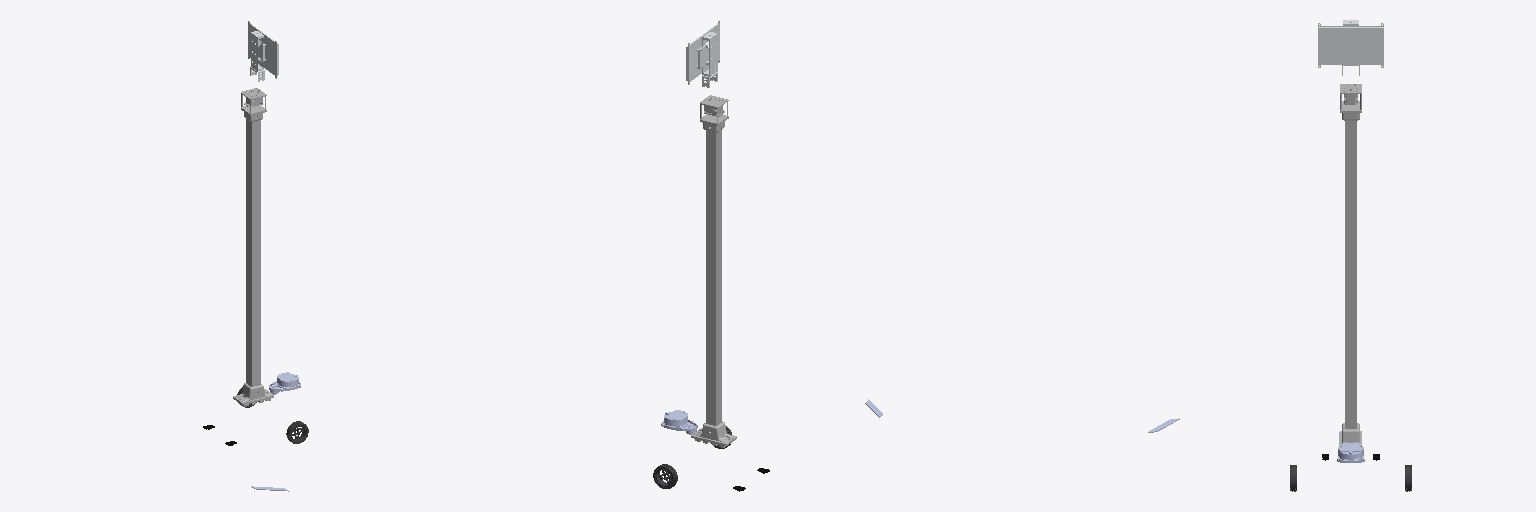
The robot description file, URDF, robot "oro_v5":
<?xml version="1.0" encoding="utf-8"?>
<!-- This URDF was automatically created by SolidWorks to URDF Exporter! Originally created by Stephen Brawner ([email redacted]) 
     Commit Version: 1.5.1-0-g916b5db  Build Version: 1.5.7152.31018
     For more information, please see http://wiki.ros.org/sw_urdf_exporter -->
<robot
  name="oro_v5">
  <link
    name="base_footprint">
    <inertial>
      <origin
        xyz="-0.278585691762885 -0.466679102042072 0.0480195977007997"
        rpy="0 0 0" />
      <mass
        value="0.00396620122104983" />
      <inertia
        ixx="1.28199259086794E-06"
        ixy="1.48868654597721E-06"
        ixz="-8.95371630187866E-23"
        iyy="1.94183452880131E-06"
        iyz="8.00302803774393E-23"
        izz="3.21956239570296E-06" />
    </inertial>
    <visual>
      <origin
        xyz="0 0 0"
        rpy="0 0 0" />
      <geometry>
        <mesh
          filename="package://oro_v5/meshes/base_footprint.STL" />
      </geometry>
      <material
        name="">
        <color
          rgba="0.792156862745098 0.819607843137255 0.933333333333333 1" />
      </material>
    </visual>
    <collision>
      <origin
        xyz="0 0 0"
        rpy="0 0 0" />
      <geometry>
        <mesh
          filename="package://oro_v5/meshes/base_footprint.STL" />
      </geometry>
    </collision>
  </link>
  <link
    name="base_link">
    <inertial>
      <origin
        xyz="-0.0592357018397242 -0.000351282404628678 0.0201575907136557"
        rpy="0 0 0" />
      <mass
        value="1.32144840386241" />
      <inertia
        ixx="0.00135545914237128"
        ixy="-1.92792410405448E-07"
        ixz="5.02237151445155E-08"
        iyy="0.000617406302650874"
        iyz="1.28465629217555E-06"
        izz="0.00194060505203685" />
    </inertial>
    <visual>
      <origin
        xyz="0 0 0"
        rpy="0 0 0" />
      <geometry>
        <mesh
          filename="package://oro_v5/meshes/base_link.STL" />
      </geometry>
      <material
        name="">
        <color
          rgba="0.752941176470588 0.752941176470588 0.752941176470588 1" />
      </material>
    </visual>
    <collision>
      <origin
        xyz="0 0 0"
        rpy="0 0 0" />
      <geometry>
        <mesh
          filename="package://oro_v5/meshes/base_link.STL" />
      </geometry>
    </collision>
  </link>
  <joint
    name="base_link_joint"
    type="fixed">
    <origin
      xyz="0 0 0.033"
      rpy="0 0 0" />
    <parent
      link="base_footprint" />
    <child
      link="base_link" />
    <axis
      xyz="0 0 0" />
  </joint>
  <link
    name="neck">
    <inertial>
      <origin
        xyz="5.1035235981059E-05 3.02250471614801E-06 0.451367324075199"
        rpy="0 0 0" />
      <mass
        value="1.10926754952808" />
      <inertia
        ixx="0.0564255773084723"
        ixy="-9.03977213539907E-10"
        ixz="-1.8295188859103E-07"
        iyy="0.0564818854150741"
        iyz="-4.18069407431348E-11"
        izz="0.000391068830002546" />
    </inertial>
    <visual>
      <origin
        xyz="0 0 0"
        rpy="0 0 0" />
      <geometry>
        <mesh
          filename="package://oro_v5/meshes/neck.STL" />
      </geometry>
      <material
        name="">
        <color
          rgba="0.752941176470588 0.752941176470588 0.752941176470588 1" />
      </material>
    </visual>
    <collision>
      <origin
        xyz="0 0 0"
        rpy="0 0 0" />
      <geometry>
        <mesh
          filename="package://oro_v5/meshes/neck.STL" />
      </geometry>
    </collision>
  </link>
  <joint
    name="neck_joint"
    type="fixed">
    <origin
      xyz="-0.064 0 0.06825"
      rpy="0 0 0" />
    <parent
      link="base_link" />
    <child
      link="neck" />
    <axis
      xyz="0 0 0" />
  </joint>
  <link
    name="pan">
    <inertial>
      <origin
        xyz="-2.50155840103294E-05 -3.07858331118482E-05 0.0205898386906647"
        rpy="0 0 0" />
      <mass
        value="0.0446711229185335" />
      <inertia
        ixx="1.24180241554179E-05"
        ixy="-4.29119054433953E-13"
        ixz="2.44763767130907E-09"
        iyy="1.04151202907413E-05"
        iyz="-1.82749851584174E-07"
        izz="7.78082243124466E-06" />
    </inertial>
    <visual>
      <origin
        xyz="0 0 0"
        rpy="0 0 0" />
      <geometry>
        <mesh
          filename="package://oro_v5/meshes/pan.STL" />
      </geometry>
      <material
        name="">
        <color
          rgba="0.752941176470588 0.752941176470588 0.752941176470588 1" />
      </material>
    </visual>
    <collision>
      <origin
        xyz="0 0 0"
        rpy="0 0 0" />
      <geometry>
        <mesh
          filename="package://oro_v5/meshes/pan.STL" />
      </geometry>
    </collision>
  </link>
  <joint
    name="pan_joint"
    type="continuous">
    <origin
      xyz="0.01275 2.54E-05 0.98748"
      rpy="0 0 3.1416" />
    <parent
      link="neck" />
    <child
      link="pan" />
    <axis
      xyz="0 0 1" />
  </joint>
  <link
    name="tilt">
    <inertial>
      <origin
        xyz="0.00118385527699938 0.0139616359862273 -0.0783421837132383"
        rpy="0 0 0" />
      <mass
        value="0.190333592129278" />
      <inertia
        ixx="0.000184137194903989"
        ixy="-1.52842480239196E-06"
        ixz="6.62804385986329E-08"
        iyy="0.000483856390372872"
        iyz="5.06450642269186E-08"
        izz="0.000309913696954649" />
    </inertial>
    <visual>
      <origin
        xyz="0 0 0"
        rpy="0 0 0" />
      <geometry>
        <mesh
          filename="package://oro_v5/meshes/tilt.STL" />
      </geometry>
      <material
        name="">
        <color
          rgba="0.894117647058823 0.913725490196078 0.929411764705882 1" />
      </material>
    </visual>
    <collision>
      <origin
        xyz="0 0 0"
        rpy="0 0 0" />
      <geometry>
        <mesh
          filename="package://oro_v5/meshes/tilt.STL" />
      </geometry>
    </collision>
  </link>
  <joint
    name="tilt_joint"
    type="continuous">
    <origin
      xyz="-0.00025 0 0.04092"
      rpy="3.1416 0 -1.5708" />
    <parent
      link="pan" />
    <child
      link="tilt" />
    <axis
      xyz="1 0 0" />
  </joint>
  <link
    name="depth_cam">
    <inertial>
      <origin
        xyz="1.57606088716095E-05 4.46446457066766E-10 4.41076423629561E-06"
        rpy="0 0 0" />
      <mass
        value="0.153126621719673" />
      <inertia
        ixx="0.000375847392851875"
        ixy="1.29137498305324E-13"
        ixz="-2.26757644251101E-09"
        iyy="2.29360924151489E-05"
        iyz="1.98626115149137E-12"
        izz="0.000377927282615239" />
    </inertial>
    <visual>
      <origin
        xyz="0 0 0"
        rpy="0 0 0" />
      <geometry>
        <mesh
          filename="package://oro_v5/meshes/depth_cam.STL" />
      </geometry>
      <material
        name="">
        <color
          rgba="0.792156862745098 0.819607843137255 0.933333333333333 1" />
      </material>
    </visual>
    <collision>
      <origin
        xyz="0 0 0"
        rpy="0 0 0" />
      <geometry>
        <mesh
          filename="package://oro_v5/meshes/depth_cam.STL" />
      </geometry>
    </collision>
  </link>
  <joint
    name="depth_cam_joint"
    type="continuous">
    <origin
      xyz="0 -0.0014699 -0.14958"
      rpy="3.1416 0 1.5708" />
    <parent
      link="tilt" />
    <child
      link="depth_cam" />
    <axis
      xyz="0 1 0" />
  </joint>
  <link
    name="base_scan">
    <inertial>
      <origin
        xyz="0.00862865863959544 0.000140843030897758 -1.73967868891121E-05"
        rpy="0 0 0" />
      <mass
        value="0.0530538694104072" />
      <inertia
        ixx="1.81416003681575E-05"
        ixy="4.99055692614564E-06"
        ixz="-2.62458054720209E-08"
        iyy="4.46011025061381E-05"
        iyz="1.92490809961404E-08"
        izz="3.57220957812171E-05" />
    </inertial>
    <visual>
      <origin
        xyz="0 0 0"
        rpy="0 0 0" />
      <geometry>
        <mesh
          filename="package://oro_v5/meshes/base_scan.STL" />
      </geometry>
      <material
        name="">
        <color
          rgba="0.792156862745098 0.819607843137255 0.933333333333333 1" />
      </material>
    </visual>
    <collision>
      <origin
        xyz="0 0 0"
        rpy="0 0 0" />
      <geometry>
        <mesh
          filename="package://oro_v5/meshes/base_scan.STL" />
      </geometry>
    </collision>
  </link>
  <joint
    name="scan_joint"
    type="fixed">
    <origin
      xyz="0.051435 0 0.08795"
      rpy="1.5708 0 3.1416" />
    <parent
      link="base_link" />
    <child
      link="base_scan" />
    <axis
      xyz="0 0 0" />
  </joint>
  <link
    name="wheel_right_link">
    <inertial>
      <origin
        xyz="-0.0577959024723893 -0.164720891612344 -0.201308502278482"
        rpy="0 0 0" />
      <mass
        value="5.58292770809024" />
      <inertia
        ixx="0.792771487456648"
        ixy="0.000179059503237664"
        ixz="0.00254861613372677"
        iyy="0.772803280888675"
        iyz="0.0299232164799445"
        izz="0.0643045890784704" />
    </inertial>
    <visual>
      <origin
        xyz="0 0 0"
        rpy="0 0 0" />
      <geometry>
        <mesh
          filename="package://oro_v5/meshes/wheel_right_link.STL" />
      </geometry>
      <material
        name="">
        <color
          rgba="0.298039215686275 0.298039215686275 0.298039215686275 1" />
      </material>
    </visual>
    <collision>
      <origin
        xyz="0 0 0"
        rpy="0 0 0" />
      <geometry>
        <mesh
          filename="package://oro_v5/meshes/wheel_right_link.STL" />
      </geometry>
    </collision>
  </link>
  <joint
    name="wheel_right_joint"
    type="continuous">
    <origin
      xyz="0 -0.1349 0"
      rpy="3.1416 0 0" />
    <parent
      link="base_link" />
    <child
      link="wheel_right_link" />
    <axis
      xyz="0 1 0" />
  </joint>
  <link
    name="wheel_left_link">
    <inertial>
      <origin
        xyz="-0.0577959024723887 -0.105071084134463 0.201308502278483"
        rpy="0 0 0" />
      <mass
        value="5.58292770809024" />
      <inertia
        ixx="0.792771487456648"
        ixy="-0.000179059503237577"
        ixz="-0.00254861613372877"
        iyy="0.772803280888676"
        iyz="0.0299232164799445"
        izz="0.0643045890784704" />
    </inertial>
    <visual>
      <origin
        xyz="0 0 0"
        rpy="0 0 0" />
      <geometry>
        <mesh
          filename="package://oro_v5/meshes/wheel_left_link.STL" />
      </geometry>
      <material
        name="">
        <color
          rgba="0.298039215686275 0.298039215686275 0.298039215686275 1" />
      </material>
    </visual>
    <collision>
      <origin
        xyz="0 0 0"
        rpy="0 0 0" />
      <geometry>
        <mesh
          filename="package://oro_v5/meshes/wheel_left_link.STL" />
      </geometry>
    </collision>
  </link>
  <joint
    name="wheel_left_joint"
    type="continuous">
    <origin
      xyz="0 0.1349 0"
      rpy="0 0 0" />
    <parent
      link="base_link" />
    <child
      link="wheel_left_link" />
    <axis
      xyz="0 1 0" />
  </joint>
  <link
    name="castor_back_right_link">
    <inertial>
      <origin
        xyz="0.119204097527611 -0.0341750962610596 0.224558502278483"
        rpy="0 0 0" />
      <mass
        value="5.58292770809024" />
      <inertia
        ixx="0.792771487456648"
        ixy="-0.000179059503237581"
        ixz="-0.00254861613372879"
        iyy="0.772803280888676"
        iyz="0.0299232164799445"
        izz="0.0643045890784704" />
    </inertial>
    <visual>
      <origin
        xyz="0 0 0"
        rpy="0 0 0" />
      <geometry>
        <mesh
          filename="package://oro_v5/meshes/castor_back_right_link.STL" />
      </geometry>
      <material
        name="">
        <color
          rgba="0.101960784313725 0.101960784313725 0.101960784313725 1" />
      </material>
    </visual>
    <collision>
      <origin
        xyz="0 0 0"
        rpy="0 0 0" />
      <geometry>
        <mesh
          filename="package://oro_v5/meshes/castor_back_right_link.STL" />
      </geometry>
    </collision>
  </link>
  <joint
    name="castor_back_right_joint"
    type="fixed">
    <origin
      xyz="-0.177 0.064 -0.02325"
      rpy="0 0 0" />
    <parent
      link="base_link" />
    <child
      link="castor_back_right_link" />
    <axis
      xyz="0 0 0" />
  </joint>
  <link
    name="castor_back_left_link">
    <inertial>
      <origin
        xyz="0.119204097527611 -0.0341750962610596 0.224558502278483"
        rpy="0 0 0" />
      <mass
        value="5.58292770809024" />
      <inertia
        ixx="0.792771487456648"
        ixy="-0.000179059503237581"
        ixz="-0.00254861613372879"
        iyy="0.772803280888675"
        iyz="0.0299232164799445"
        izz="0.0643045890784704" />
    </inertial>
    <visual>
      <origin
        xyz="0 0 0"
        rpy="0 0 0" />
      <geometry>
        <mesh
          filename="package://oro_v5/meshes/castor_back_left_link.STL" />
      </geometry>
      <material
        name="">
        <color
          rgba="0.101960784313725 0.101960784313725 0.101960784313725 1" />
      </material>
    </visual>
    <collision>
      <origin
        xyz="0 0 0"
        rpy="0 0 0" />
      <geometry>
        <mesh
          filename="package://oro_v5/meshes/castor_back_left_link.STL" />
      </geometry>
    </collision>
  </link>
  <joint
    name="castor_back_left_joint"
    type="fixed">
    <origin
      xyz="-0.177 0.064 -0.02325"
      rpy="0 0 0" />
    <parent
      link="base_link" />
    <child
      link="castor_back_left_link" />
    <axis
      xyz="0 0 0" />
  </joint>
</robot>

--- Render facts (derived) ---
The picture shows the robot from 3 angles, left to right: view 1: azimuth 30°, elevation 25°; view 2: azimuth 150°, elevation 25°; view 3: azimuth 270°, elevation 25°; orthographic projection.
Model oro_v5 with 11 links and 10 joints (5 continuous, 5 fixed), rooted at base_footprint, posed every joint at zero.
Links seen in each view (by area): view 1: neck, tilt; view 2: neck, tilt, base_scan; view 3: neck, tilt.
Link boxes in pixels (x1,y1,x2,y2): neck: (233, 88, 273, 406); tilt: (248, 21, 278, 81); neck: (691, 95, 736, 447); tilt: (686, 21, 719, 87); base_scan: (661, 410, 697, 434); neck: (1339, 84, 1361, 444); tilt: (1318, 20, 1383, 75).
Bounding box of the posed robot: 0.4028 × 0.6601 × 1.27 m (x, y, z).
Meshes: 11 distinct files referenced, 8 mesh visuals loaded (8 binary STL); not drawn: 3 (reference not matched to a file when rendering).
